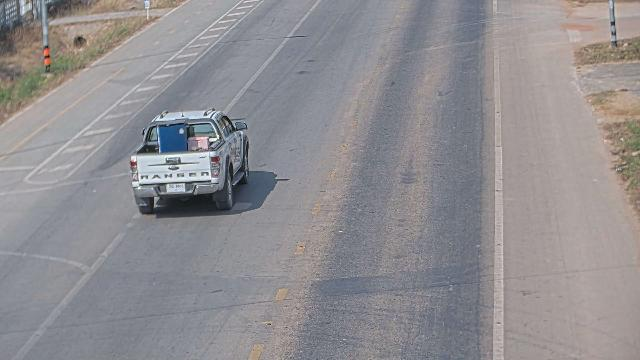pickup-truck: (129, 107, 250, 214)
